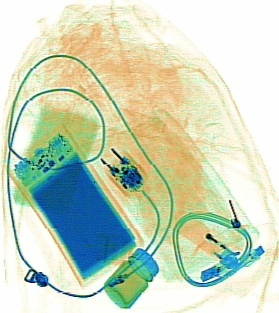lighter: (171, 212, 243, 270)
